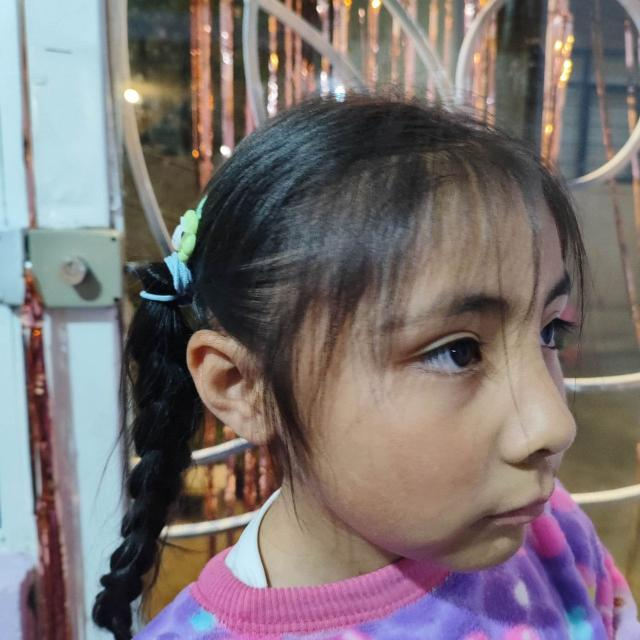ear: (186, 329, 270, 444)
